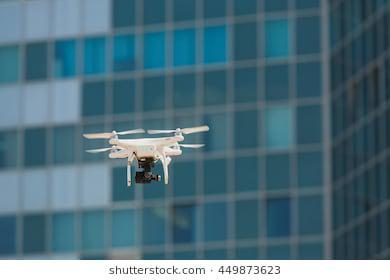drone: (76, 116, 220, 196)
